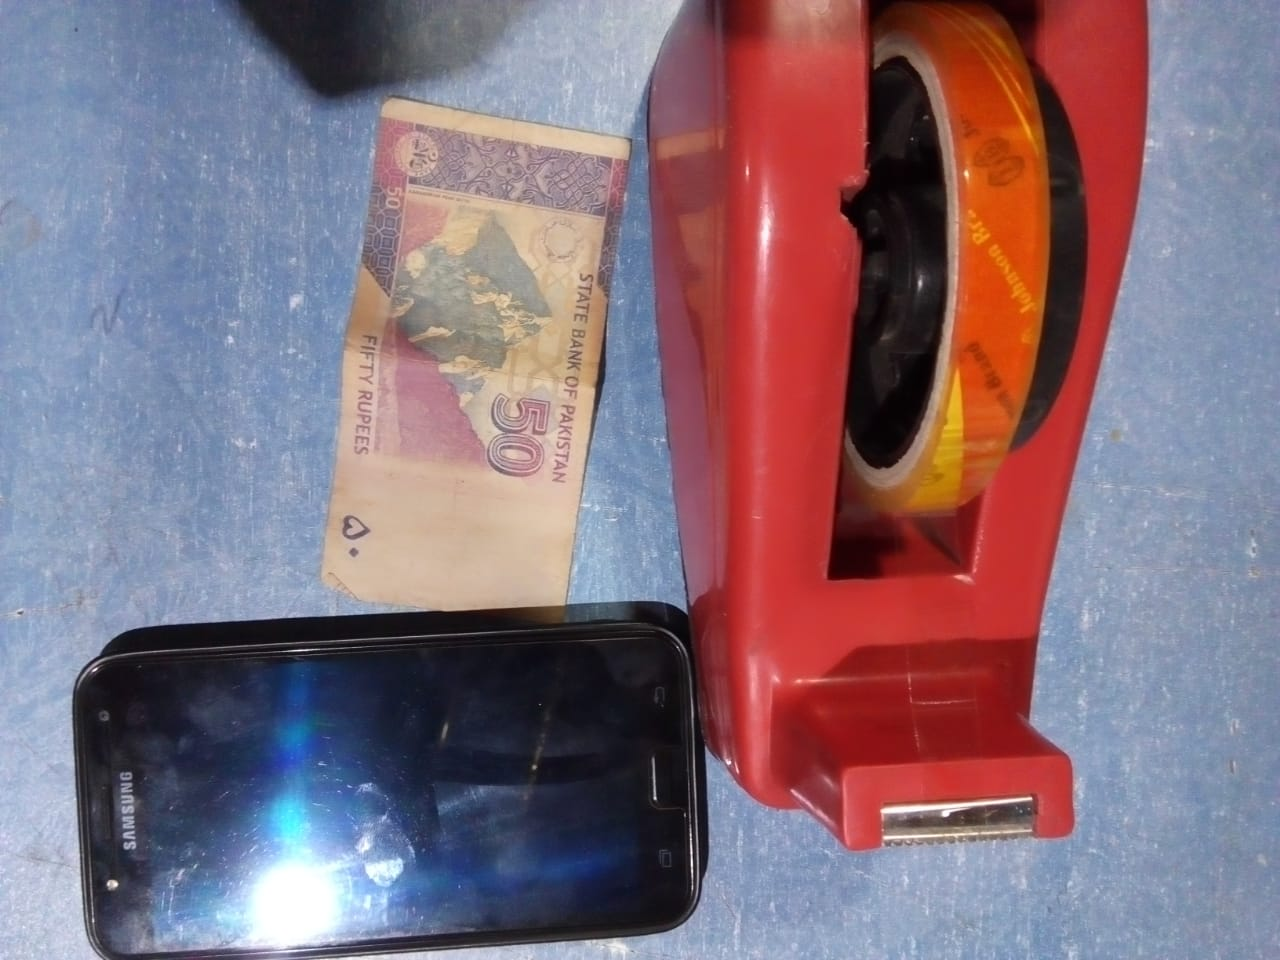50 rupee: (327, 80, 628, 607)
